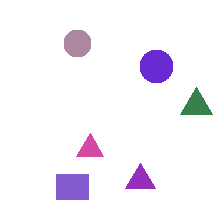circle: (140, 50, 172, 82), (64, 30, 90, 56)
rectangle: (56, 174, 88, 199)
triangle: (180, 87, 212, 114), (125, 163, 155, 188), (76, 133, 103, 156)
